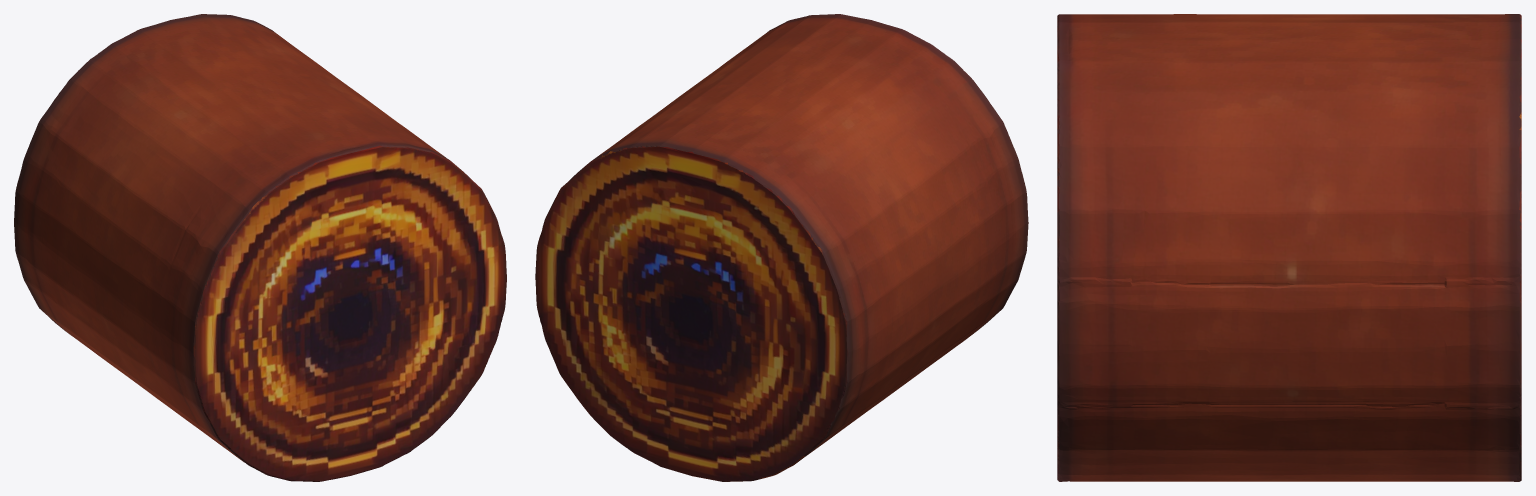
The model's file is ai_generated_1772234856.glb.
3 renders of one model, left to right at view 1: azimuth 30°, elevation 25°; view 2: azimuth 150°, elevation 25°; view 3: azimuth 270°, elevation 25°, orthographic. The views are drawn at different scales.
Visible parts, largest first — view 1: tmpt2ougfkv.ply; view 2: tmpt2ougfkv.ply; view 3: tmpt2ougfkv.ply.
Boxes of the visible parts, box(x1,y1,x2,y2) form: tmpt2ougfkv.ply: box(14, 14, 506, 481); tmpt2ougfkv.ply: box(535, 14, 1028, 481); tmpt2ougfkv.ply: box(1057, 14, 1521, 481).
Size of the model in its own units: 1.96 by 1.93 by 1.95.
1 material, 1 textured.
